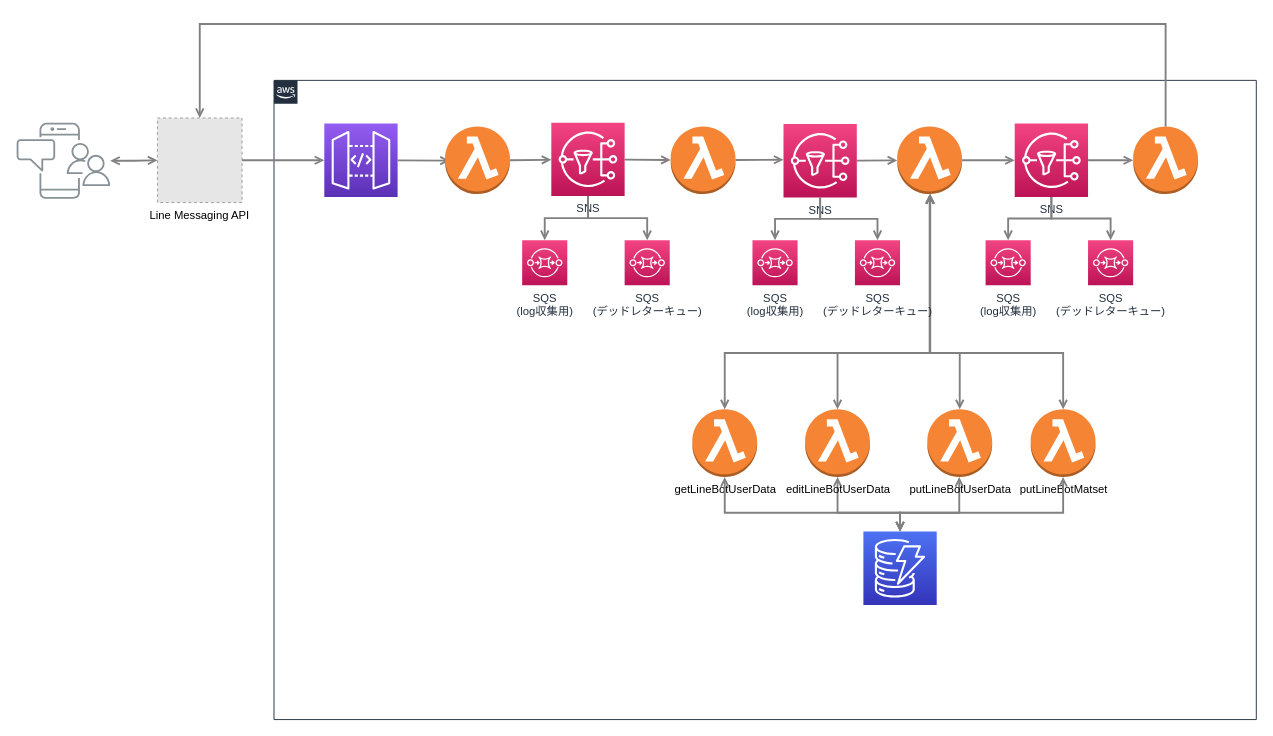
Some shapes in this 1273 by 736 pixel diagram are drawn without their labels. Grey dashed boxes stand in for pictures. Each missing label, with the centre of its shape:
"analysis" goes at (x=703, y=159).
"API Gateway" goes at (x=360, y=160).
"DynamoDB" goes at (x=899, y=568).
"getReplyMessage" goes at (x=929, y=159).
"Line app" goes at (x=63, y=160).
"linebotReply" goes at (x=1165, y=159).
"linebotWebhook" goes at (x=477, y=159).
